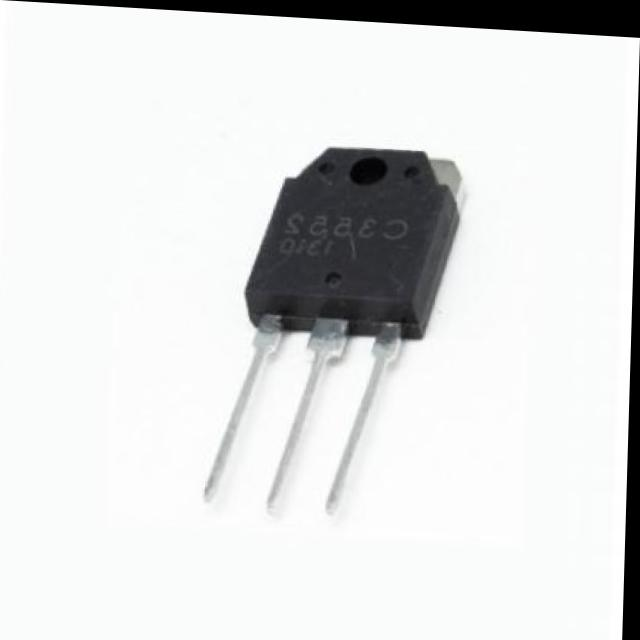Transistor: (244, 143, 462, 336)
